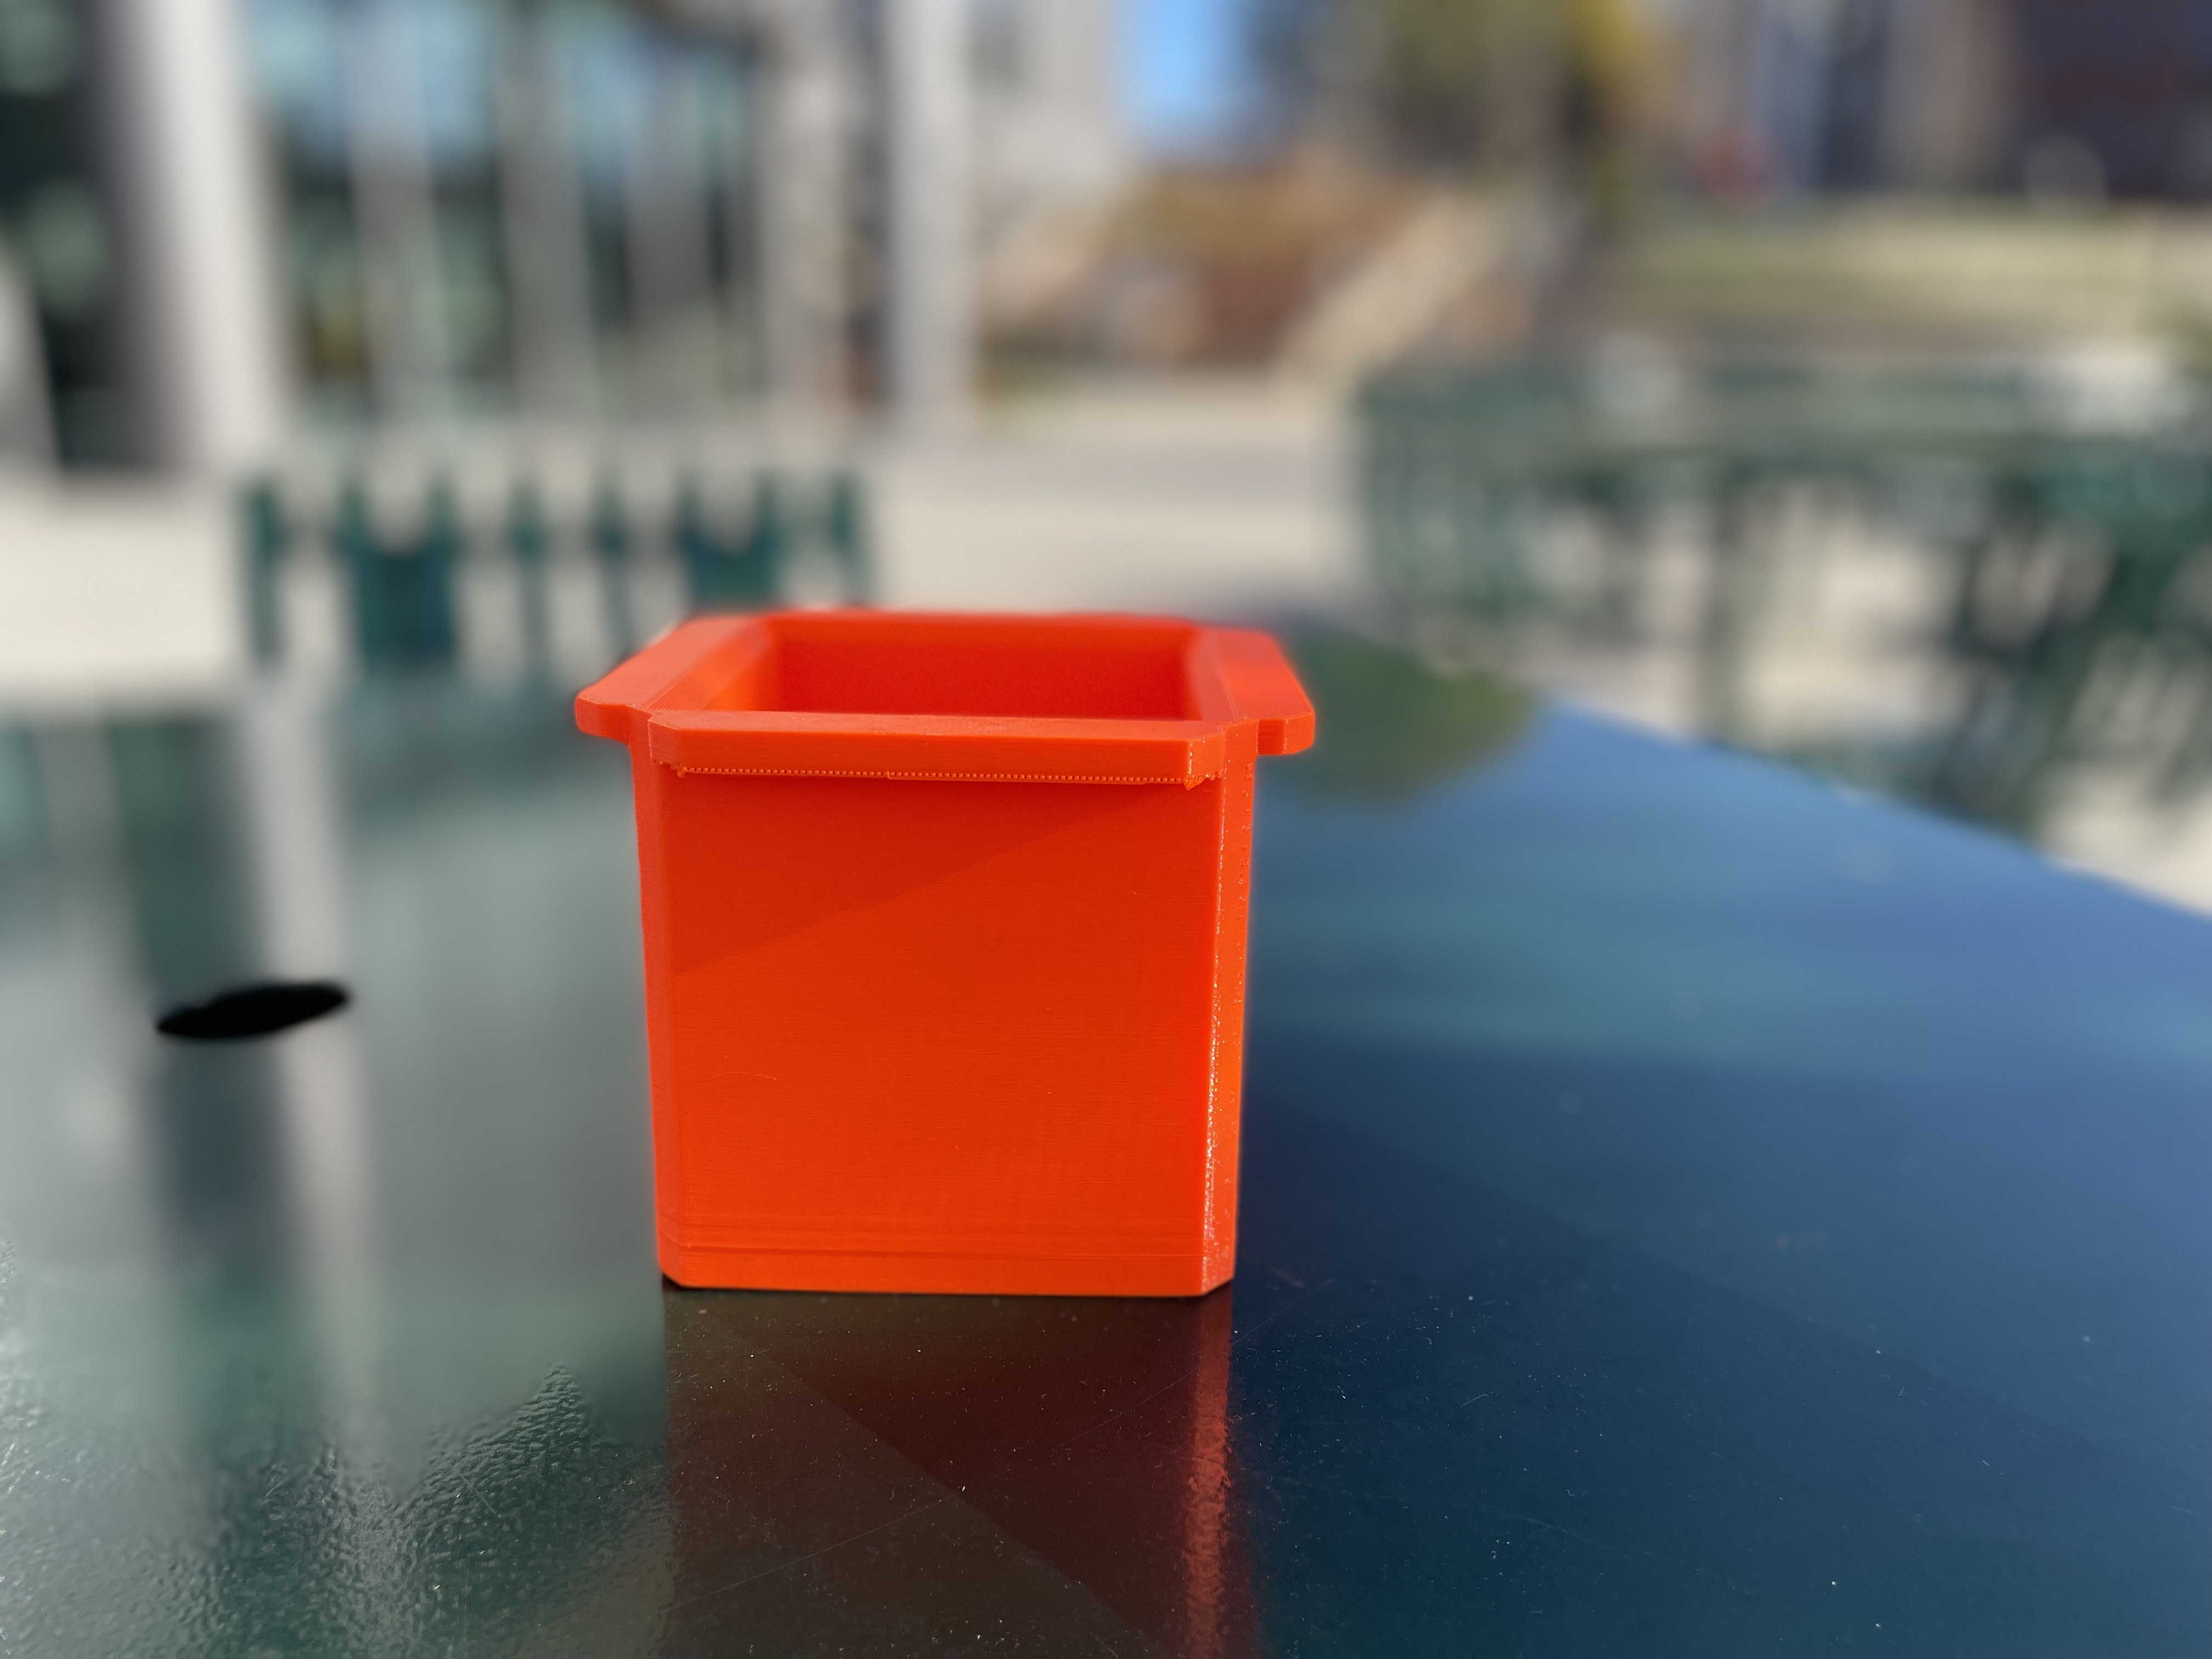payload1: (559, 587, 1346, 1345)
